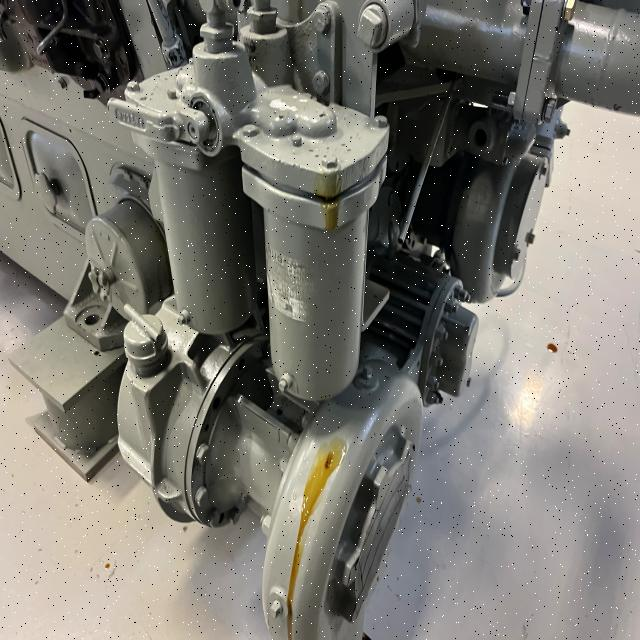Oil Leak: (263, 433, 349, 640), (309, 167, 343, 231), (547, 343, 558, 353)
